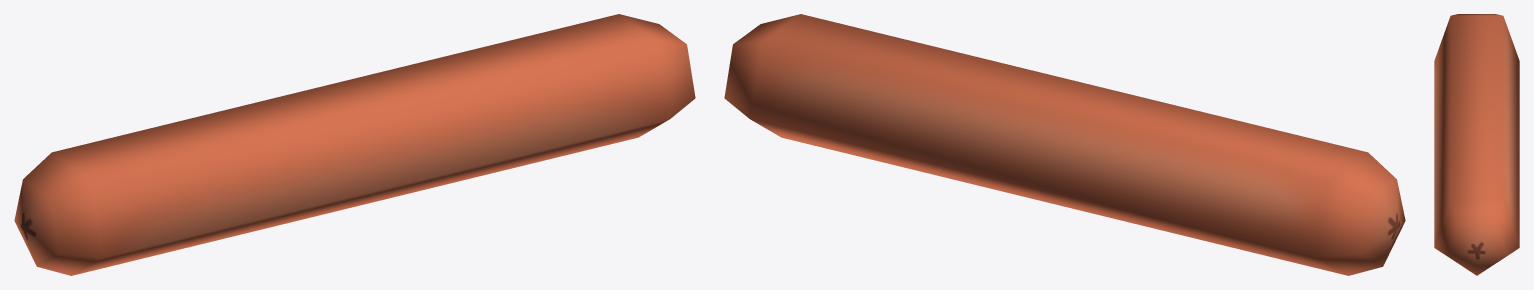
File: fff_hotdog_sausage.FBX
3 views of the same model, side by side, from view 1: azimuth 30°, elevation 25°; view 2: azimuth 150°, elevation 25°; view 3: azimuth 270°, elevation 25° (orthographic). The views are drawn at different scales.
Visible parts, largest first — view 1: fff_hotdog_sausage; view 2: fff_hotdog_sausage; view 3: fff_hotdog_sausage.
Part boxes in pixels (x1,y1,x2,y2): fff_hotdog_sausage: (14, 14, 695, 275); fff_hotdog_sausage: (724, 14, 1405, 275); fff_hotdog_sausage: (1434, 14, 1519, 275).
Bounding box in the file's own units: 11.19 × 1.76 × 1.85.
